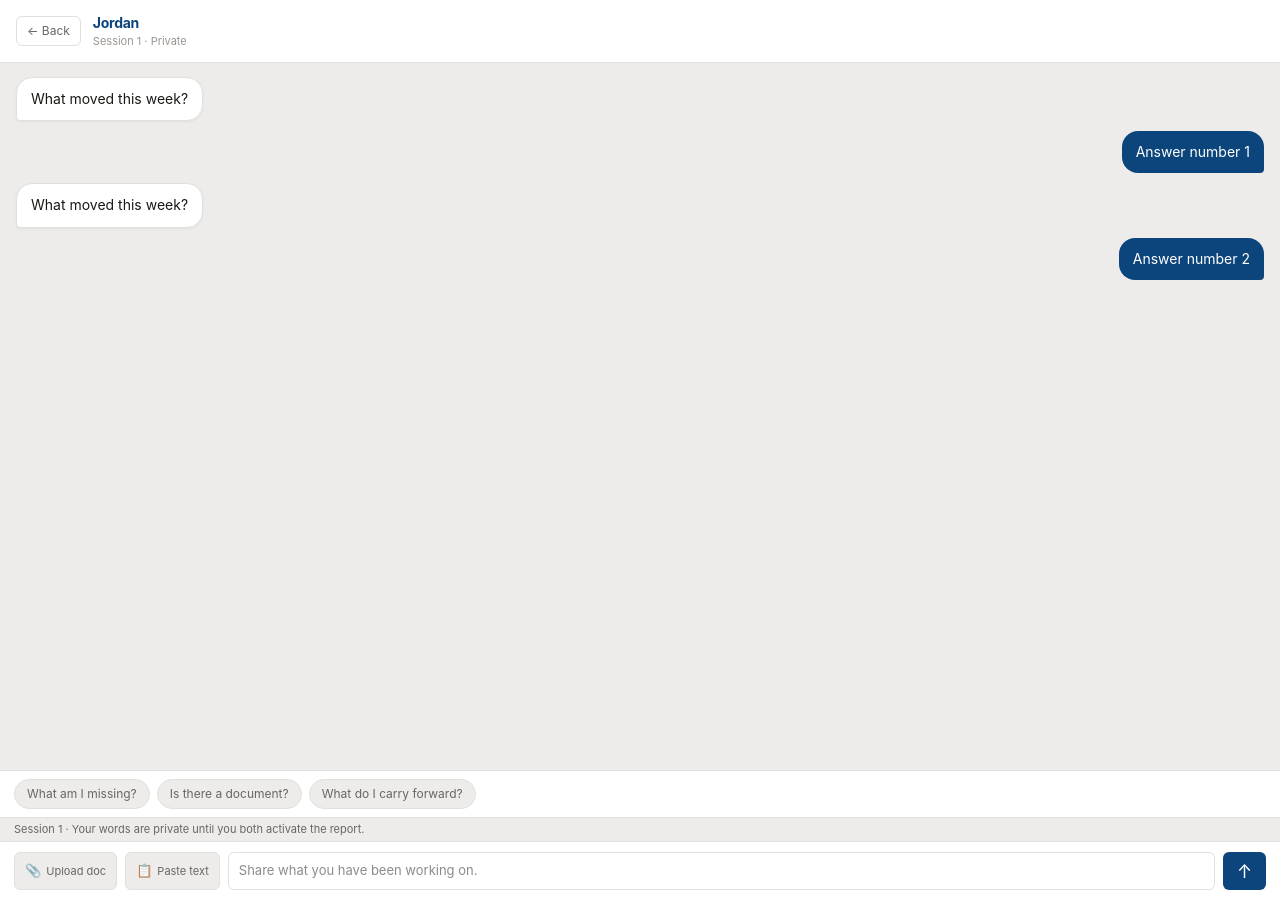
Test: a send that never lands does not unlock the offer › offers it once the third answer is acknowledged by a reply
Check: the text "Answer number 2" is shown, box [1119, 238, 1264, 280]
Type "My third answer, which does land" into the text box with placeholder "Share what you have been working on." at (721, 871), box [228, 852, 1215, 890]
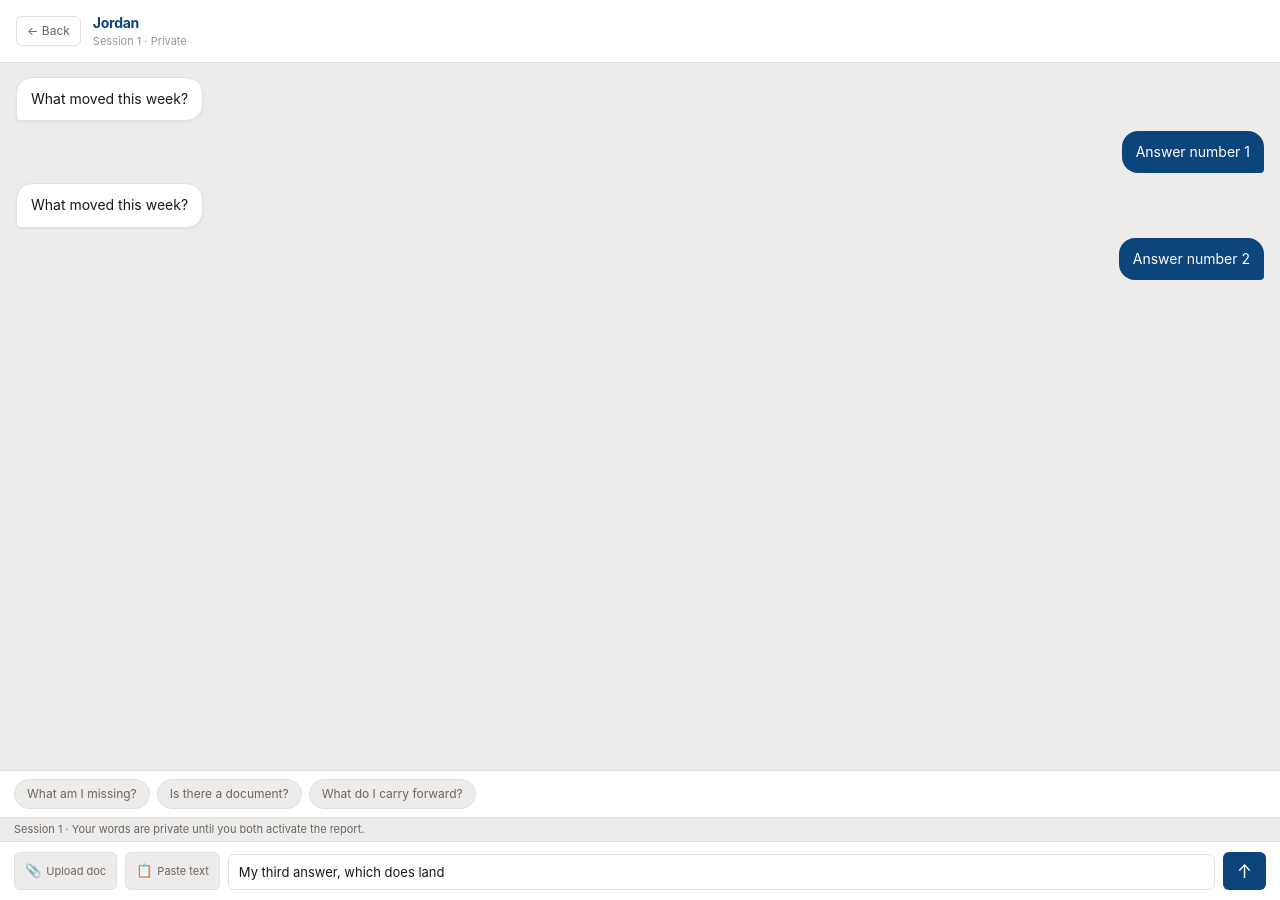
Click the button "↑" at (1244, 871), box [1223, 852, 1266, 890]
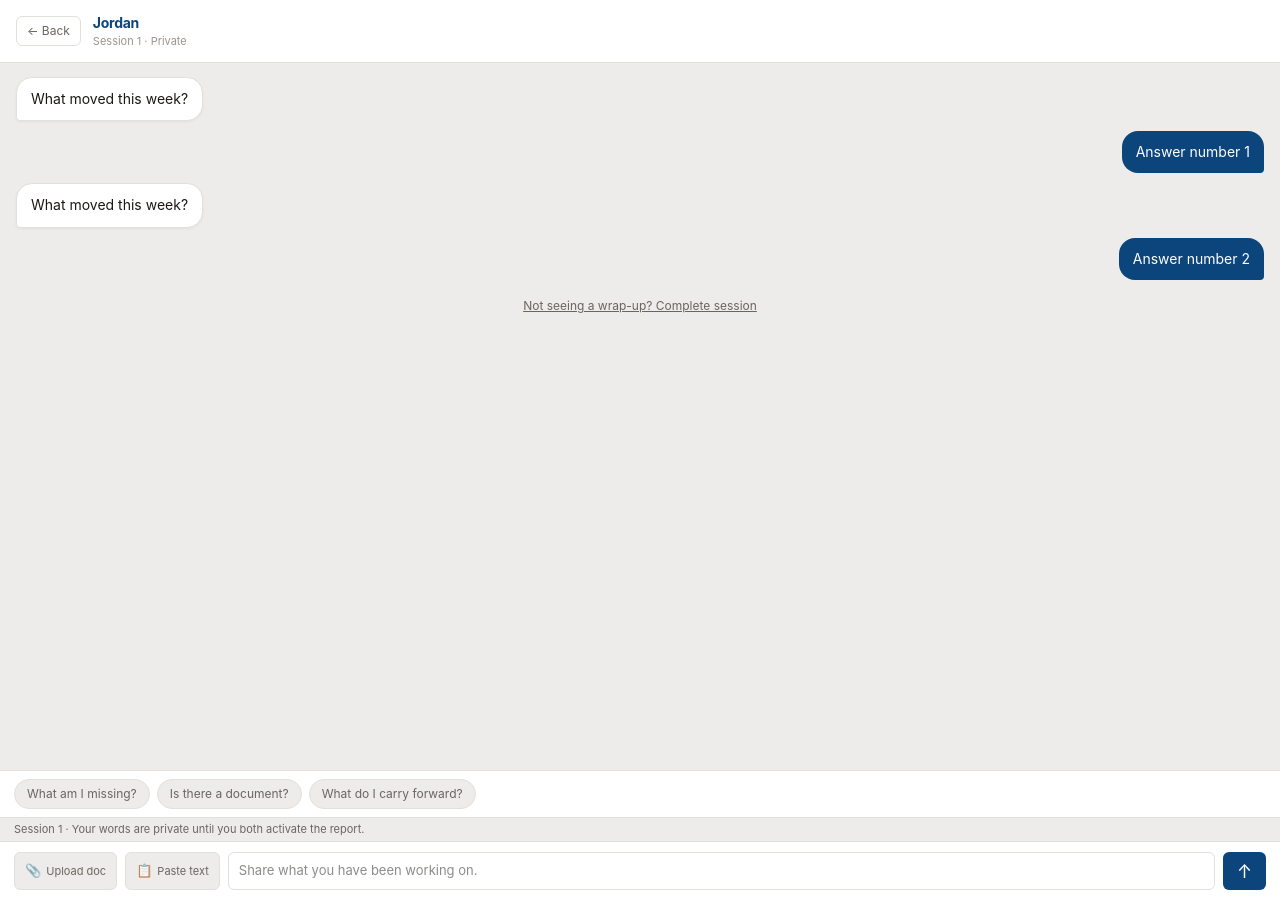
Check: the button "Not seeing a wrap-up? Complete session" is shown, box [523, 297, 757, 315]
